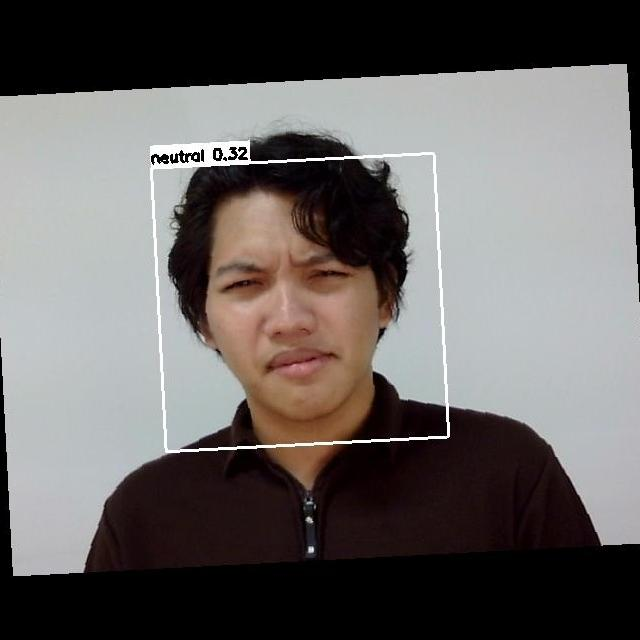Disgust: (200, 235, 382, 395)
